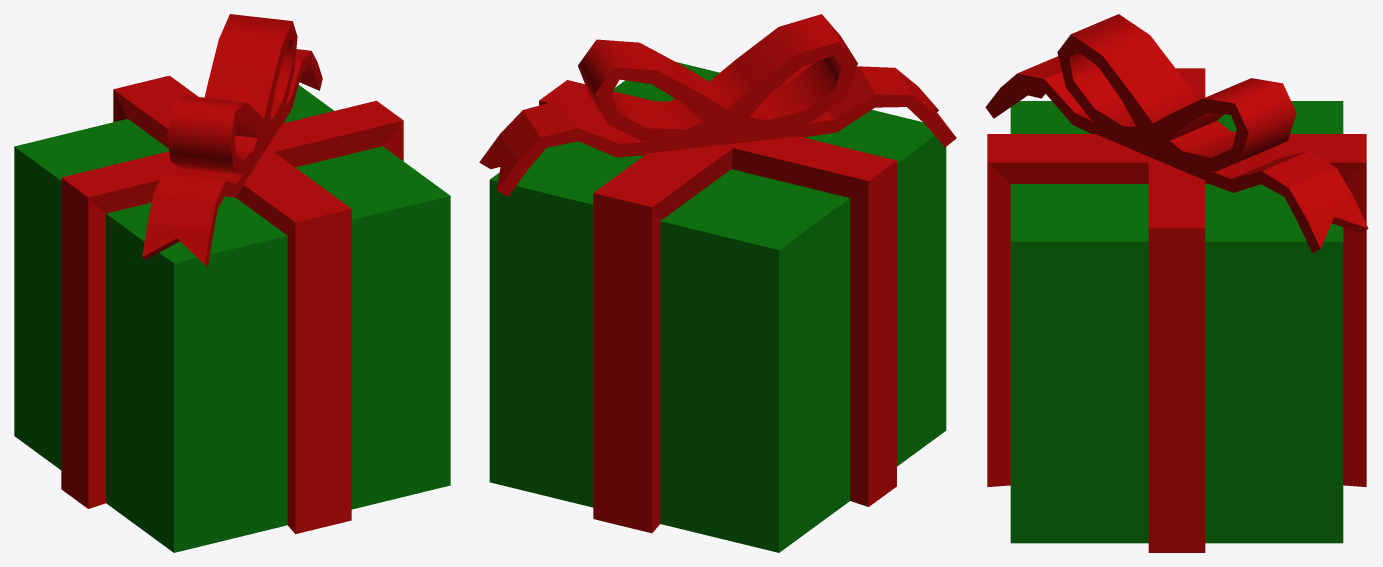
File: Presents2.fbx
3 views of the same model, side by side, from view 1: azimuth 30°, elevation 25°; view 2: azimuth 150°, elevation 25°; view 3: azimuth 270°, elevation 25° (orthographic). The views are drawn at different scales.
Visible parts, largest first — view 1: Present2; view 2: Present2; view 3: Present2.
Part boxes in pixels (bbox=[...]): Present2: bbox=[14, 14, 450, 552]; Present2: bbox=[479, 14, 956, 552]; Present2: bbox=[985, 14, 1368, 552].
Size of the model in its own units: 46.08 by 54.94 by 46.08.
